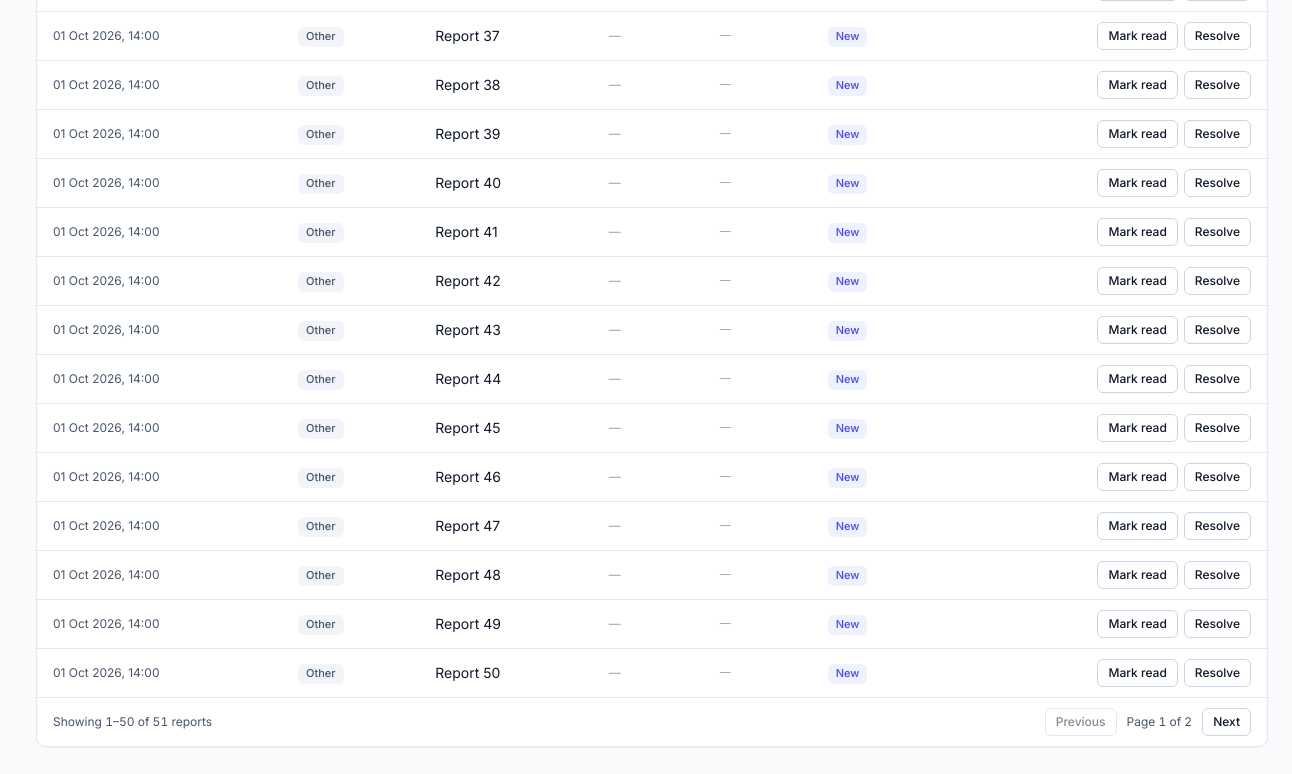
Test: Feedback page › clamps back a page when an action empties the last page
(page scrolled)
Click the button "Next".
click(1227, 722)  # box [1202,708,1251,736]
(page scrolled)
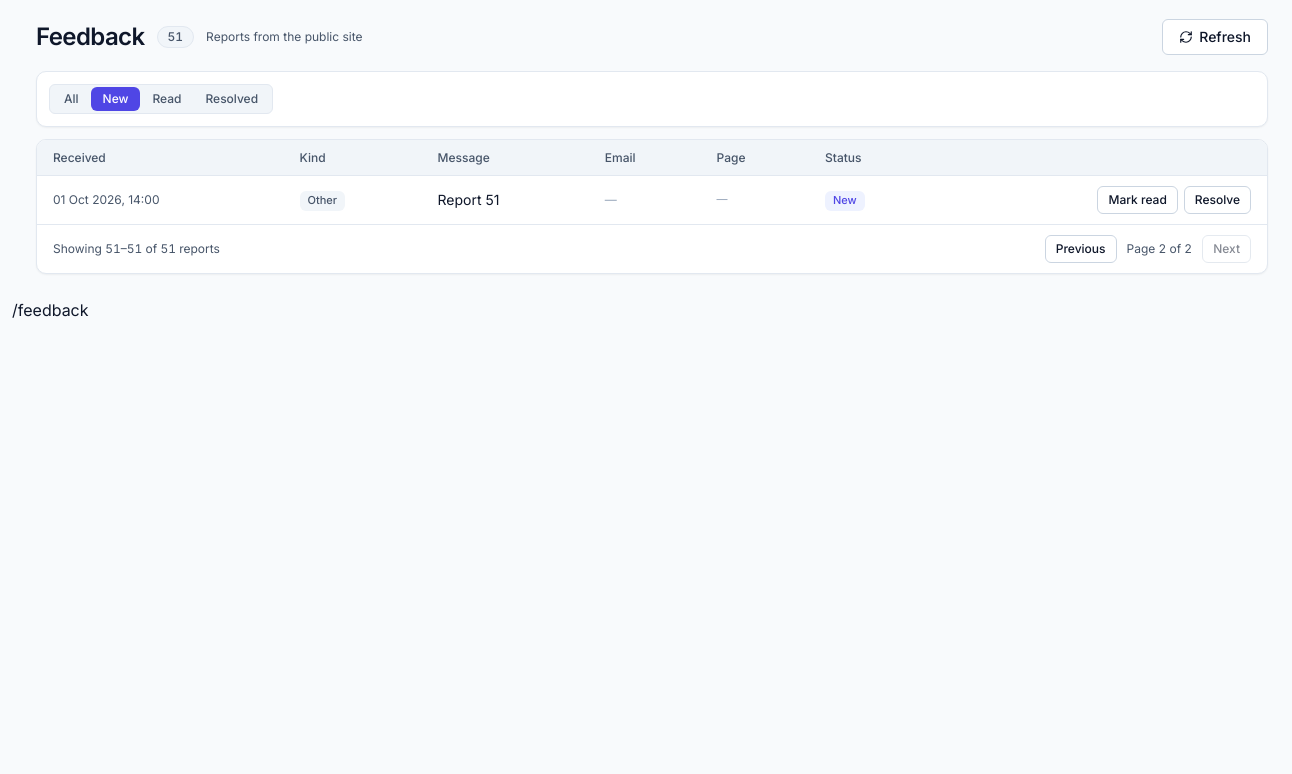
Click the button "Resolve".
click(1217, 200)  # box [1184,186,1251,214]
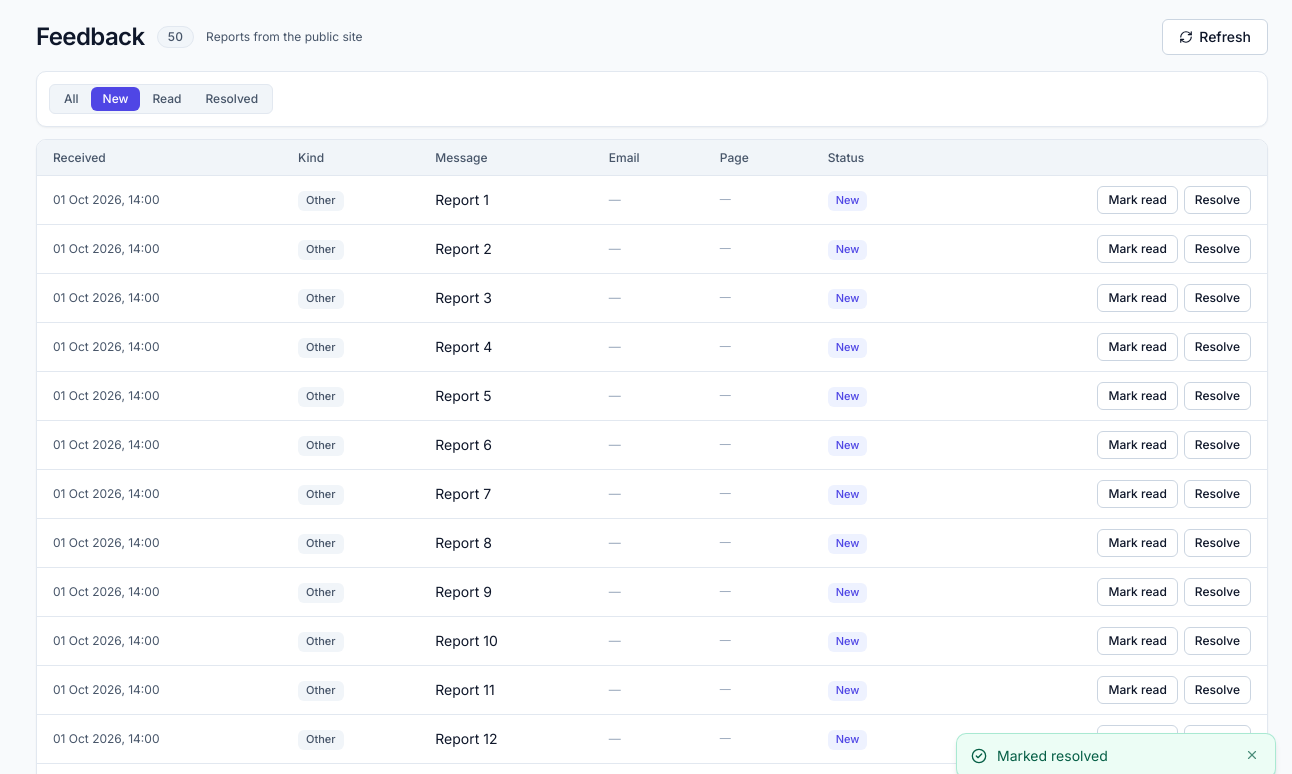
Check: the text "Report 1" is shown, box [435,191,489,208]
